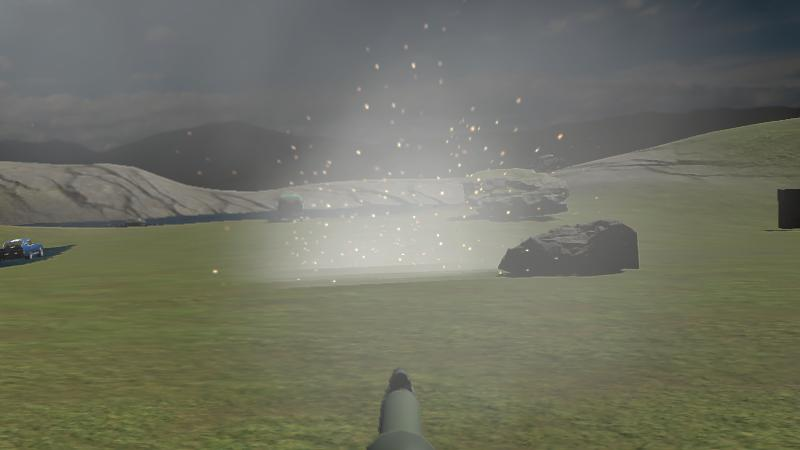car: (1, 235, 46, 272)
